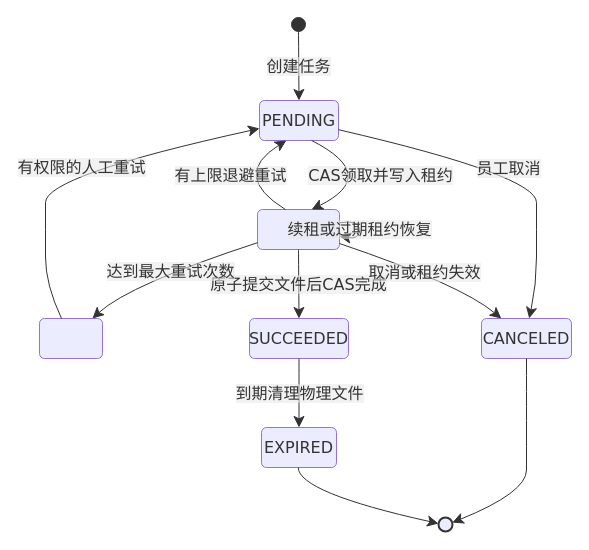
Some shapes in this 589 by 550 pixel diagram are drawn without their labels. The centre of each missing label's shape, as x and y in pixels:
"FAILED" goes at (x=70, y=338).
"RUNNING" goes at (x=298, y=229).
